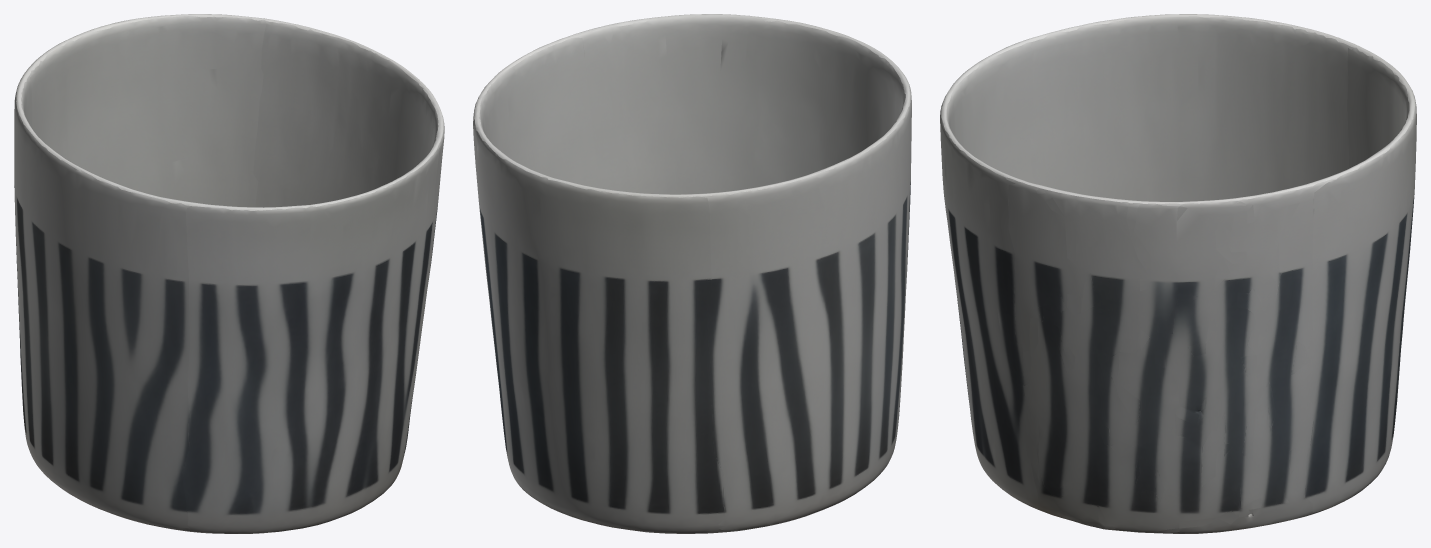
3 views of the same model, side by side, from view 1: azimuth 30°, elevation 25°; view 2: azimuth 150°, elevation 25°; view 3: azimuth 270°, elevation 25° (orthographic). The views are drawn at different scales.
Visible parts, largest first — view 1: geometry_0; view 2: geometry_0; view 3: geometry_0.
Part boxes in pixels (x1,y1,x2,y2): geometry_0: (14, 14, 444, 533); geometry_0: (473, 14, 911, 533); geometry_0: (940, 14, 1416, 533).
Bounding box in the file's own units: 1.82 × 1.67 × 2.
1 material, 1 textured.
